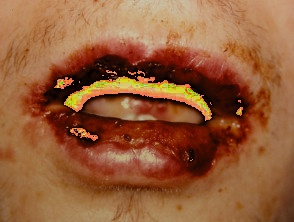SJS-TEN: (6, 1, 290, 203)
